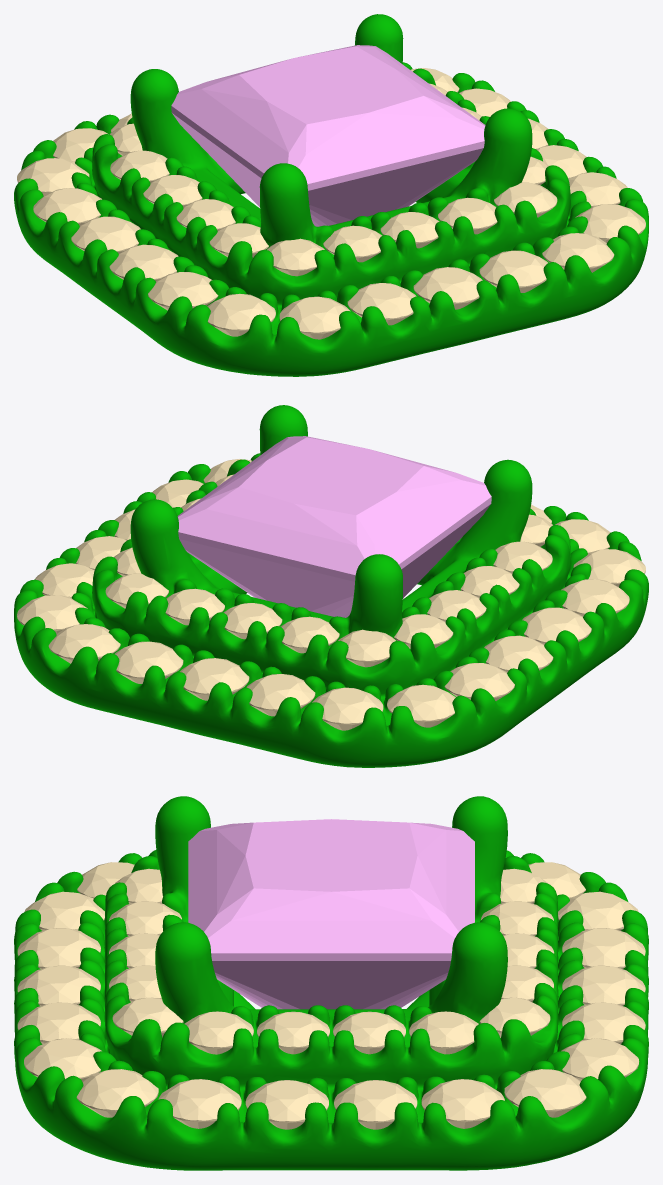
3 renders of one model, top to bottom at view 1: azimuth 30°, elevation 25°; view 2: azimuth 150°, elevation 25°; view 3: azimuth 270°, elevation 25°, orthographic. The views are drawn at different scales.
Parts seen in each view (by area): view 1: Metal01, Diamond_Princess, Diamond_Round.013, Diamond_Round.014, Diamond_Round.017, Diamond_Round.016, Diamond_Round.015, Diamond_Round.012, Diamond_Round.018, Diamond_Round.009, Diamond_Round.010, Diamond_Round.011 (+16 smaller); view 2: Metal01, Diamond_Princess, Diamond_Round.008, Diamond_Round.004, Diamond_Round.007, Diamond_Round.005, Diamond_Round.006, Diamond_Round.009, Diamond_Round.003, Diamond_Round.011, Diamond_Round.012, Diamond_Round.010 (+16 smaller); view 3: Metal01, Diamond_Princess, Diamond_Round.001, Diamond_Round.020, Diamond_Round.002, Diamond_Round.019, Diamond_Round.021, Diamond_Round, Diamond_Round.018, Diamond_Round.003, Diamond_Round.006, Diamond_Round.015 (+22 smaller).
Part boxes in pixels (left/top/right/bottom): Metal01: left=14, top=14, right=648, bottom=376; Diamond_Princess: left=171, top=45, right=485, bottom=226; Diamond_Round.013: left=207, top=293, right=275, bottom=336; Diamond_Round.014: left=279, top=296, right=350, bottom=339; Diamond_Round.017: left=479, top=250, right=547, bottom=292; Diamond_Round.016: left=413, top=267, right=482, bottom=309; Diamond_Round.015: left=347, top=283, right=416, bottom=325; Diamond_Round.012: left=148, top=272, right=218, bottom=310; Diamond_Round.018: left=542, top=233, right=614, bottom=272; Diamond_Round.009: left=33, top=188, right=101, bottom=225; Diamond_Round.010: left=71, top=216, right=140, bottom=253; Diamond_Round.011: left=109, top=244, right=178, bottom=281; Metal01: left=14, top=405, right=648, bottom=767; Diamond_Princess: left=177, top=436, right=491, bottom=617; Diamond_Round.008: left=387, top=684, right=455, bottom=727; Diamond_Round.004: left=115, top=641, right=183, bottom=683; Diamond_Round.007: left=312, top=687, right=383, bottom=730; Diamond_Round.005: left=180, top=658, right=249, bottom=700; Diamond_Round.006: left=246, top=674, right=315, bottom=716; Diamond_Round.009: left=444, top=663, right=514, bottom=700; Diamond_Round.003: left=48, top=624, right=120, bottom=663; Diamond_Round.011: left=522, top=607, right=591, bottom=644; Diamond_Round.012: left=561, top=579, right=629, bottom=616; Diamond_Round.010: left=484, top=635, right=553, bottom=672; Metal01: left=14, top=796, right=648, bottom=1170; Diamond_Princess: left=188, top=819, right=474, bottom=1009; Diamond_Round.001: left=421, top=1079, right=504, bottom=1128; Diamond_Round.020: left=158, top=1079, right=241, bottom=1128; Diamond_Round.002: left=504, top=1069, right=586, bottom=1117; Diamond_Round.019: left=76, top=1069, right=158, bottom=1117; Diamond_Round.021: left=245, top=1080, right=328, bottom=1129; Diamond_Round: left=334, top=1080, right=417, bottom=1129; Diamond_Round.018: left=24, top=1038, right=101, bottom=1081; Diamond_Round.003: left=561, top=1038, right=639, bottom=1081; Diamond_Round.006: left=562, top=928, right=645, bottom=968; Diamond_Round.015: left=17, top=928, right=100, bottom=968.
Size of the model in its own units: 12.17 by 6.44 by 12.18.
